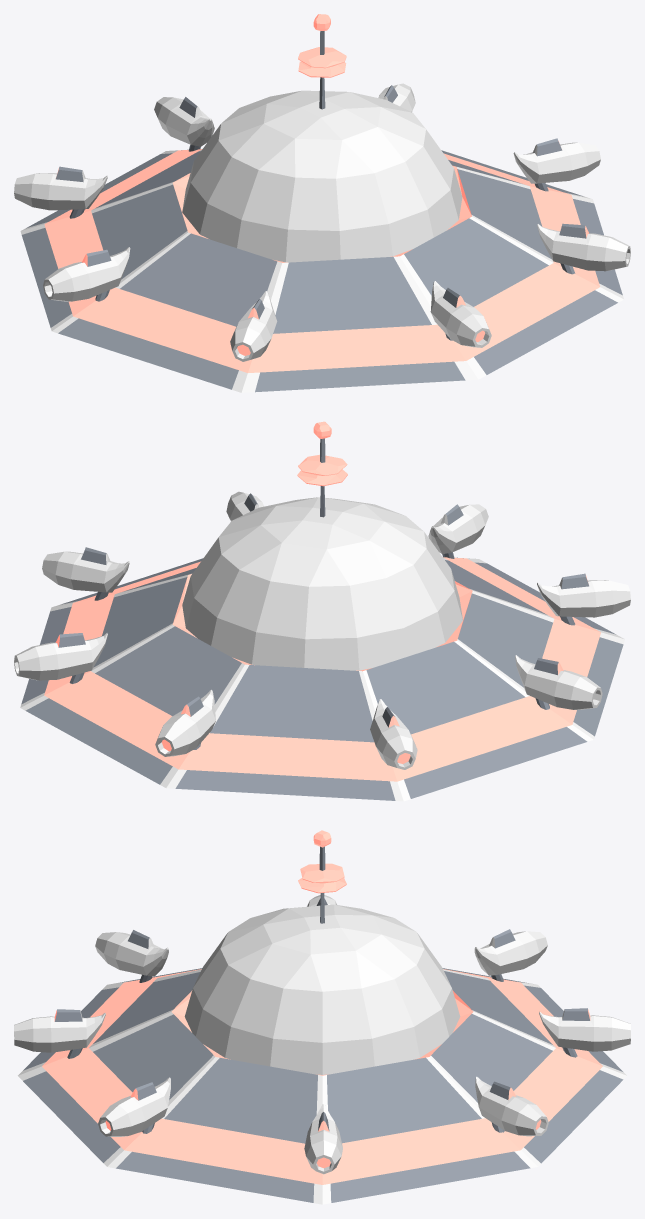
Rendered from SM_ufo_boss.fbx.
3 renders of one model, top to bottom at view 1: azimuth 30°, elevation 25°; view 2: azimuth 150°, elevation 25°; view 3: azimuth 270°, elevation 25°, orthographic. The views are drawn at different scales.
Visible parts, largest first — view 1: SM_ufo_boss; view 2: SM_ufo_boss; view 3: SM_ufo_boss.
Boxes of the visible parts, x1=… form: SM_ufo_boss: x1=14, y1=14, x2=630, y2=392; SM_ufo_boss: x1=14, y1=421, x2=630, y2=801; SM_ufo_boss: x1=14, y1=830, x2=630, y2=1204.
Bounding box in the file's own units: 2.8 × 1.5 × 2.8.
